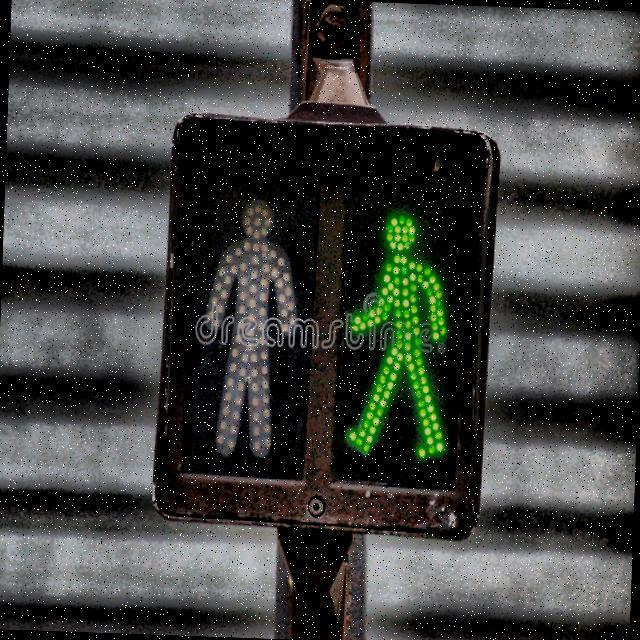green_light: (340, 205, 459, 465)
